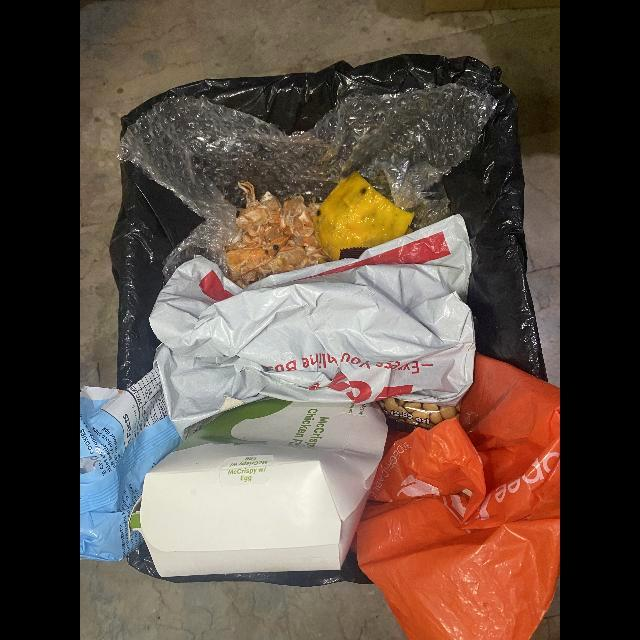food_wrapper: (80, 368, 182, 563), (380, 398, 459, 433)
left_over_food: (224, 182, 333, 289)
plastic_bag: (150, 215, 477, 440), (356, 353, 560, 640), (140, 399, 388, 578)
